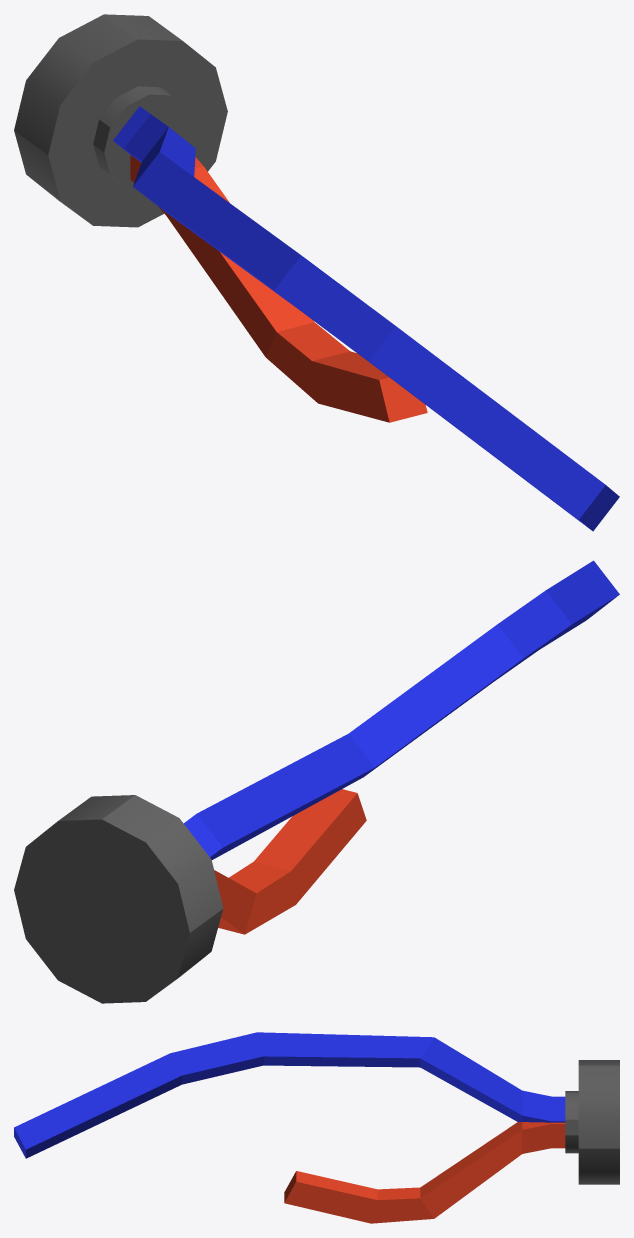
File: wires.fbx
3 renders of one model, top to bottom at view 1: azimuth 30°, elevation 25°; view 2: azimuth 150°, elevation 25°; view 3: azimuth 270°, elevation 25°, orthographic. The views are drawn at different scales.
Visible parts, largest first — view 1: Cube.001, Cylinder, Cube; view 2: Cylinder, Cube.001, Cube; view 3: Cube.001, Cube, Cylinder.
Boxes of the visible parts, x1,y1,x2,y2 form: Cube.001: (113, 106, 619, 531); Cylinder: (14, 14, 227, 227); Cube: (130, 155, 427, 422); Cylinder: (14, 795, 223, 1003); Cube.001: (184, 560, 619, 859); Cube: (214, 789, 366, 934); Cube.001: (14, 1032, 565, 1158); Cube: (284, 1121, 565, 1223); Cylinder: (565, 1060, 619, 1184).
Bounding box in the file's own units: 245 × 260 × 968.
